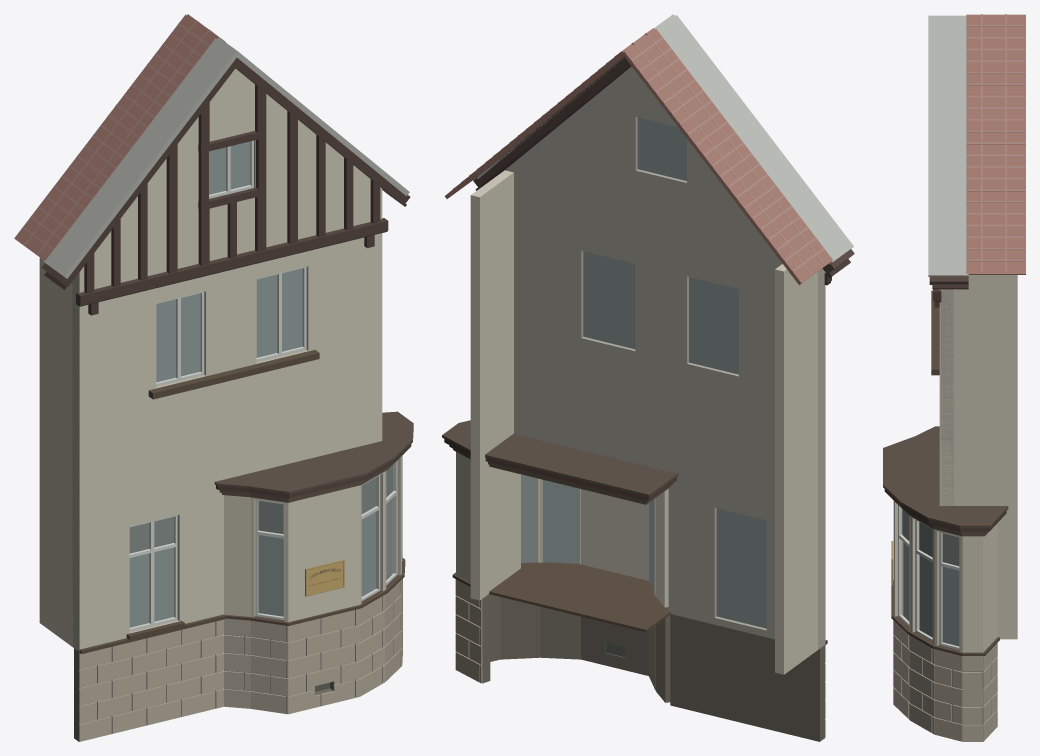
Rendered from jingan-liu-residence-changle-courtyard-gable-web.glb.
The picture shows the model from 3 angles, left to right: view 1: azimuth 30°, elevation 25°; view 2: azimuth 150°, elevation 25°; view 3: azimuth 270°, elevation 25°; orthographic projection. The views are drawn at different scales.
Visible parts, largest first — view 1: 刘氏花园住宅长乐路庭院露木山墙与折面凸窗; view 2: 刘氏花园住宅长乐路庭院露木山墙与折面凸窗; view 3: 刘氏花园住宅长乐路庭院露木山墙与折面凸窗.
Part boxes in pixels (box(x1,y1,x2,y2)): 刘氏花园住宅长乐路庭院露木山墙与折面凸窗: box(14, 14, 413, 741); 刘氏花园住宅长乐路庭院露木山墙与折面凸窗: box(442, 14, 854, 741); 刘氏花园住宅长乐路庭院露木山墙与折面凸窗: box(883, 14, 1025, 741).
Size of the model in its own units: 7.55 by 12.95 by 2.62.
